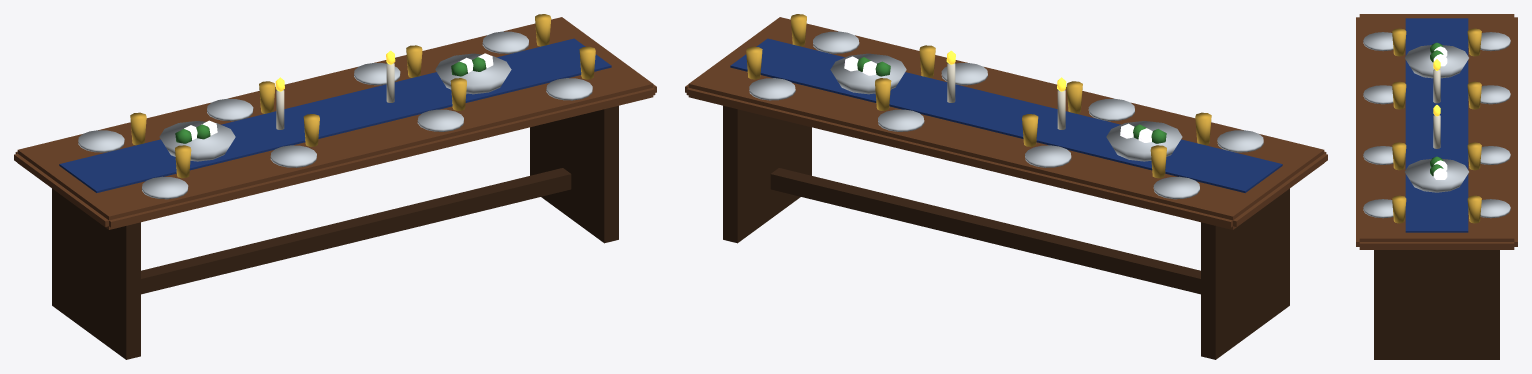
File: elven-table.glb
3 renders of one model, left to right at view 1: azimuth 30°, elevation 25°; view 2: azimuth 150°, elevation 25°; view 3: azimuth 270°, elevation 25°, orthographic. The views are drawn at different scales.
Parts seen in each view (by area): view 1: Model Mesh; view 2: Model Mesh; view 3: Model Mesh.
Boxes of the visible parts, box(x1,y1,x2,y2) form: Model Mesh: box(14, 14, 656, 359); Model Mesh: box(685, 14, 1327, 359); Model Mesh: box(1356, 14, 1517, 359).
Bounding box in the file's own units: 3 × 1.08 × 0.9.
